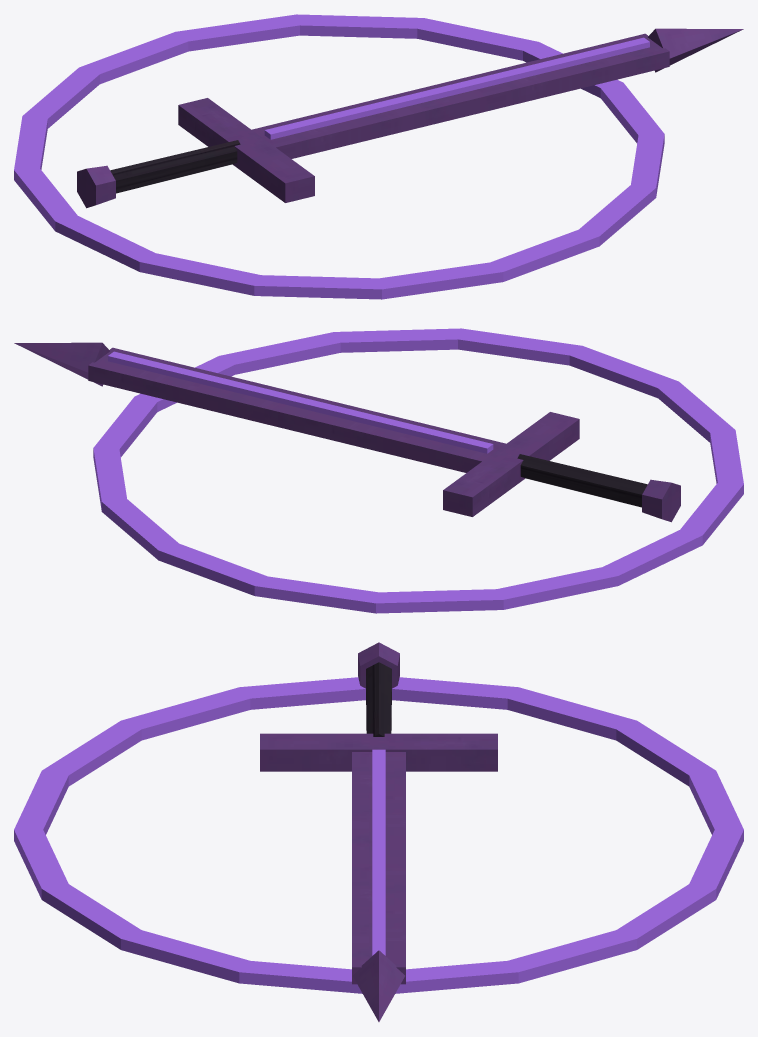
Rendered from loot_sword_g2.glb.
3 views of the same model, one above another, from view 1: azimuth 30°, elevation 25°; view 2: azimuth 150°, elevation 25°; view 3: azimuth 270°, elevation 25° (orthographic). The views are drawn at different scales.
Visible parts, largest first — view 1: loot_sword_g2; view 2: loot_sword_g2; view 3: loot_sword_g2.
Part boxes in pixels (bbox=[...]): loot_sword_g2: bbox=[14, 14, 743, 299]; loot_sword_g2: bbox=[14, 328, 743, 613]; loot_sword_g2: bbox=[14, 642, 743, 1021].
Bounding box in the file's own units: 1.63 × 0.1275 × 1.35.
3 materials, 2 textured.
